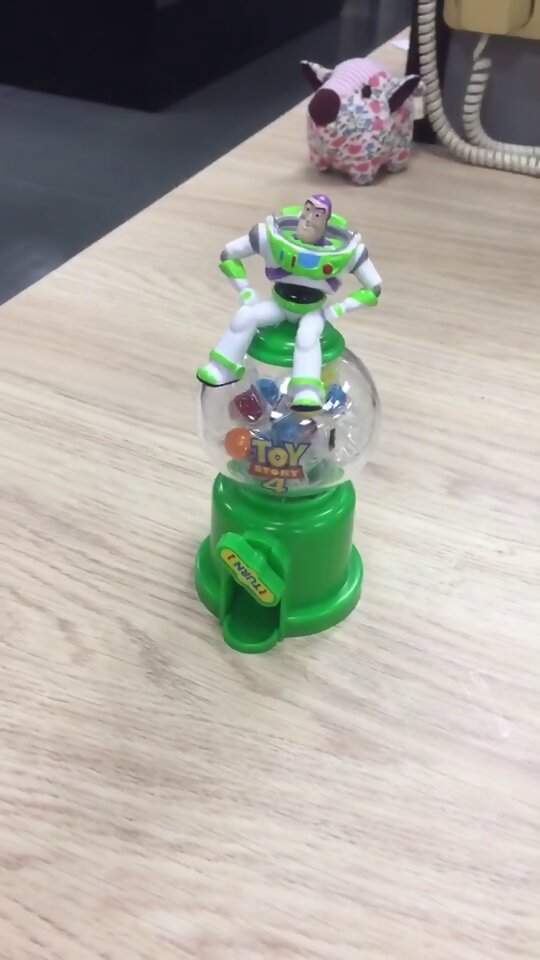buzz: (188, 189, 386, 658)
